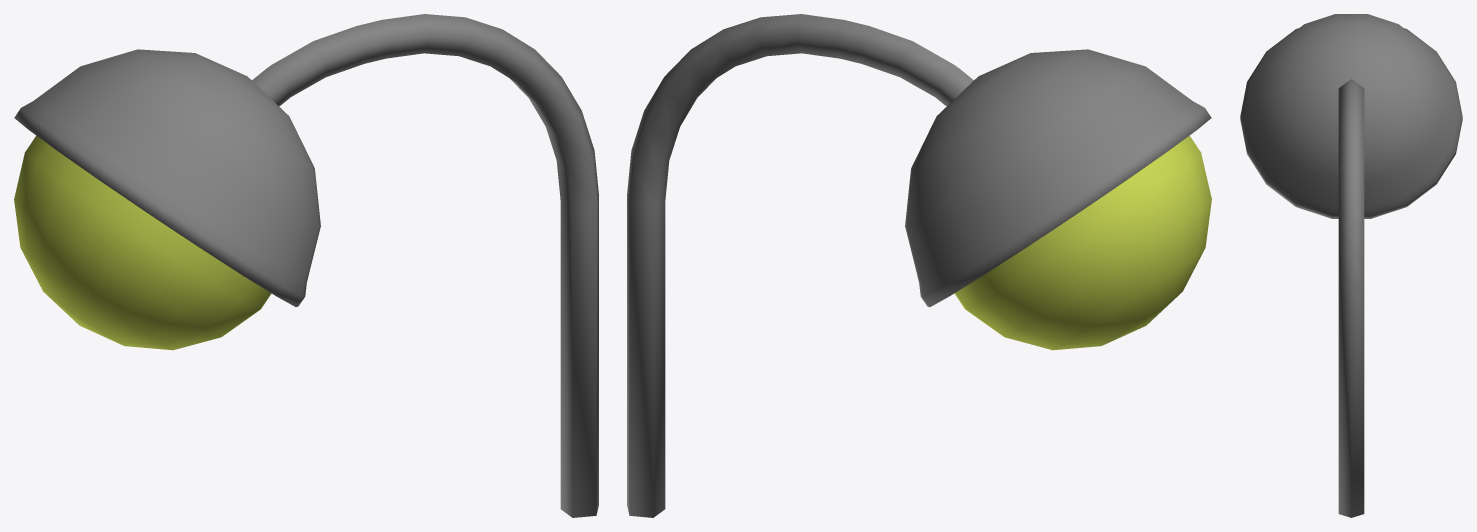
File: SM_lamp_01.fbx
3 renders of one model, left to right at view 1: azimuth 30°, elevation 25°; view 2: azimuth 150°, elevation 25°; view 3: azimuth 270°, elevation 25°, orthographic. The views are drawn at different scales.
Parts seen in each view (by area): view 1: Object32713; view 2: Object32713; view 3: Object32713.
Part boxes in pixels (box(x1,y1,x2,y2)): Object32713: box(14, 14, 598, 517); Object32713: box(627, 14, 1211, 517); Object32713: box(1240, 14, 1462, 517).
Size of the model in its own units: 29.46 by 27.48 by 15.61.
